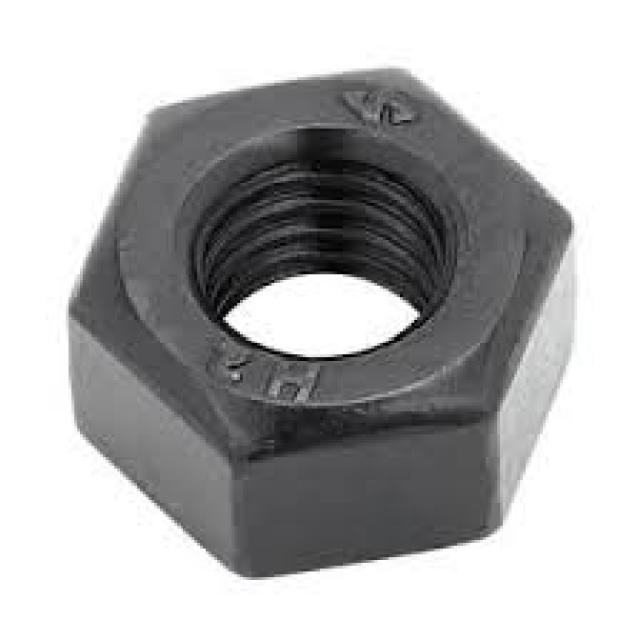Dry Waste: (48, 48, 592, 589)
